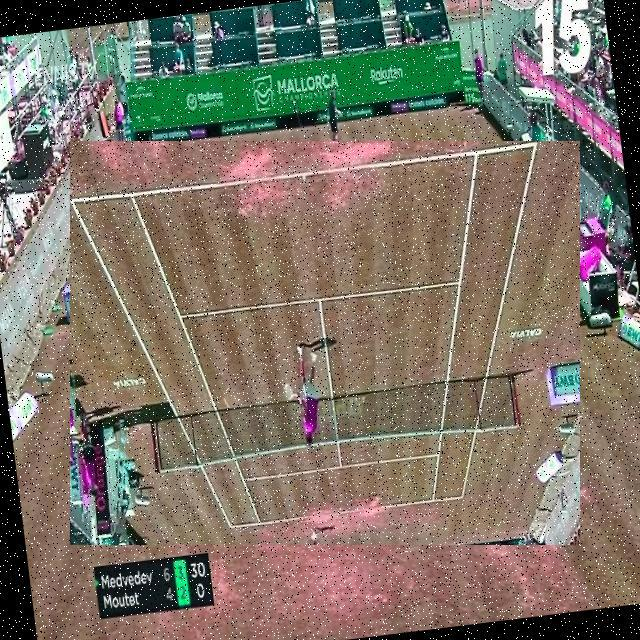court: (70, 141, 580, 545)
net: (128, 212, 500, 310)
player: (320, 235, 370, 344)
